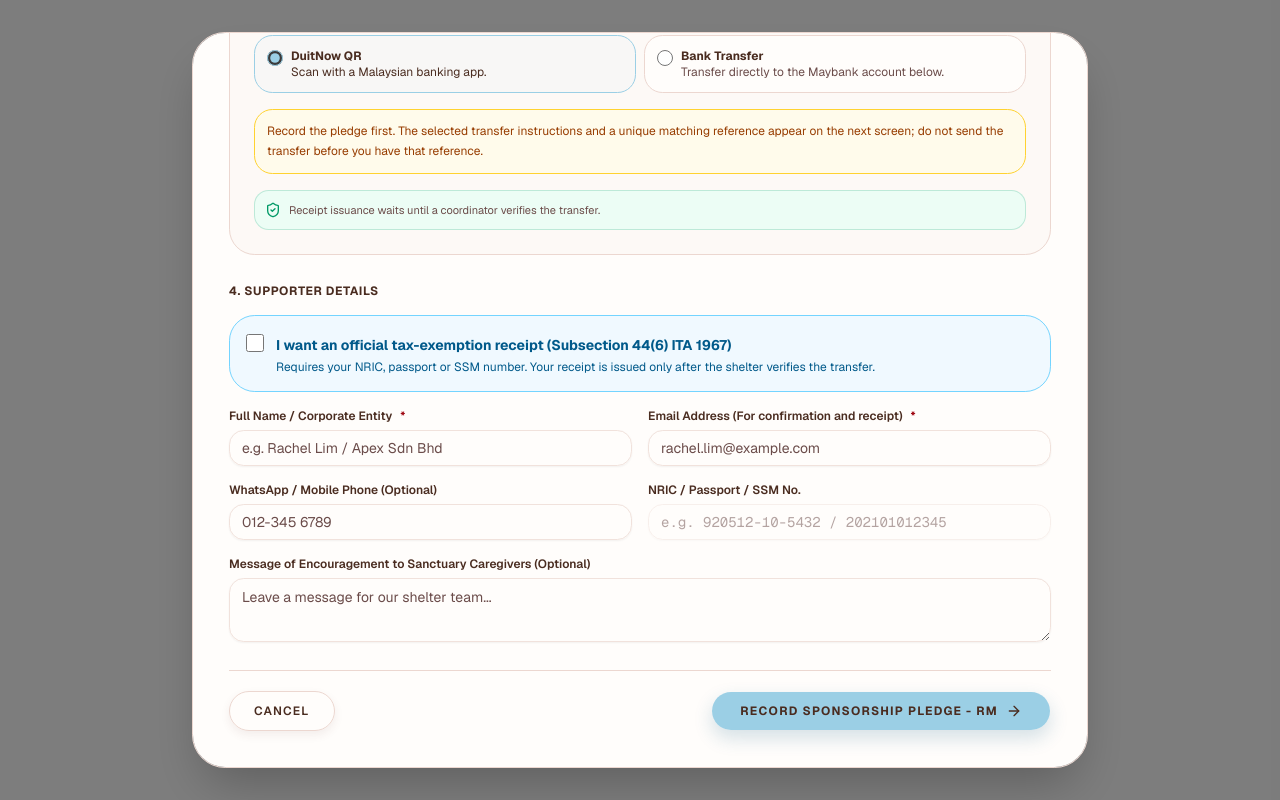
Test: SponsorshipModal checkout contract › does not deny a possible external transfer after a target-pet action result
(page scrolled)
In the field labelled "Full Name / Corporate Entity *": point(430, 448) [229, 430, 632, 466], type "Aisyah Rahman"
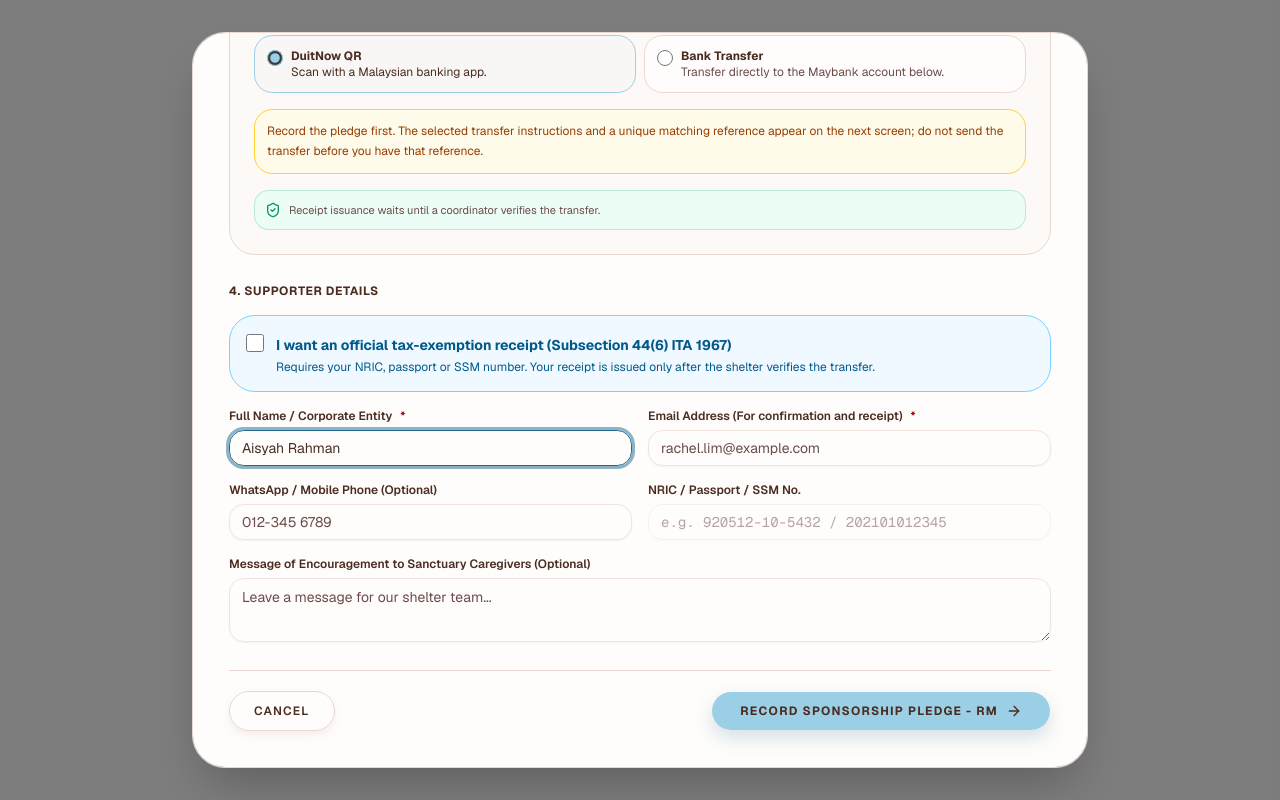
In the field labelled "Email Address (For confirmation and receipt) *": point(850, 448) [648, 430, 1051, 466], type "aisyah@example.com"
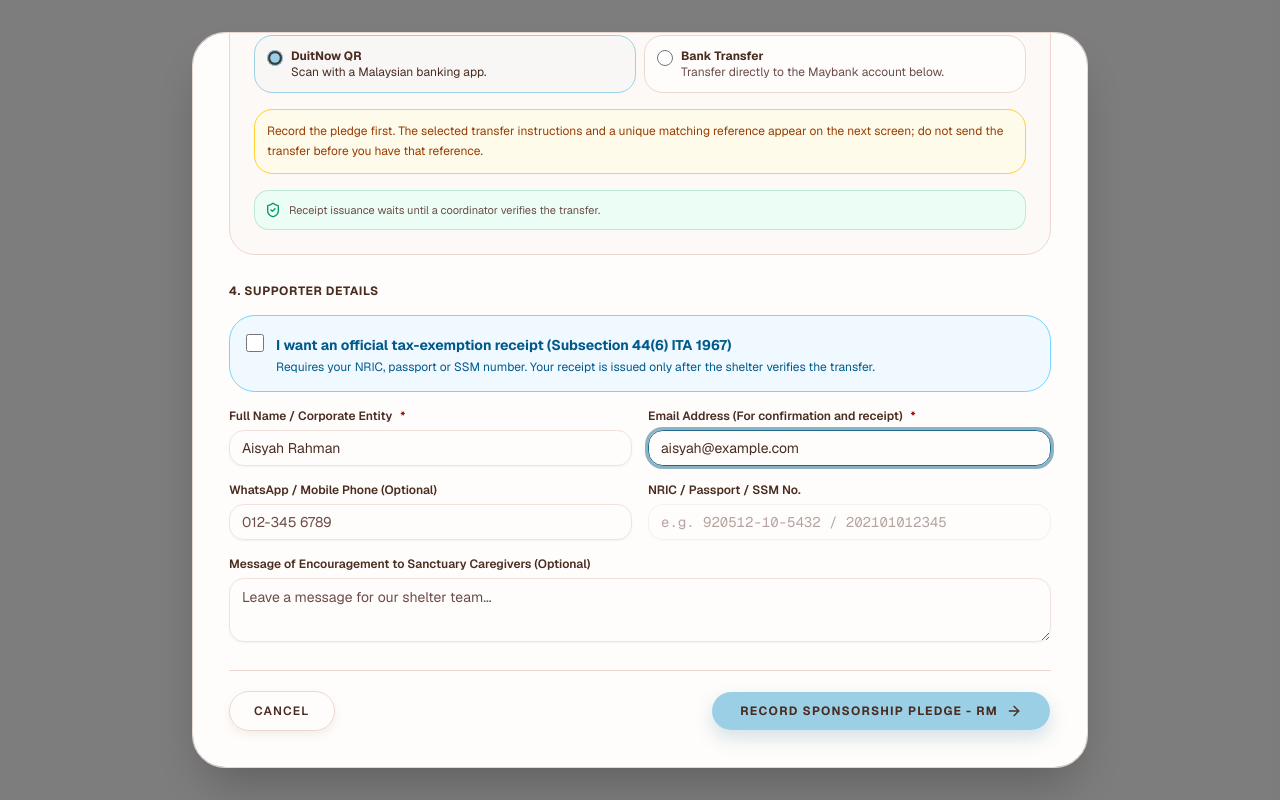
Click the button "Record Sponsorship Pledge - RM": point(881, 711) [711, 691, 1051, 731]
(page scrolled)
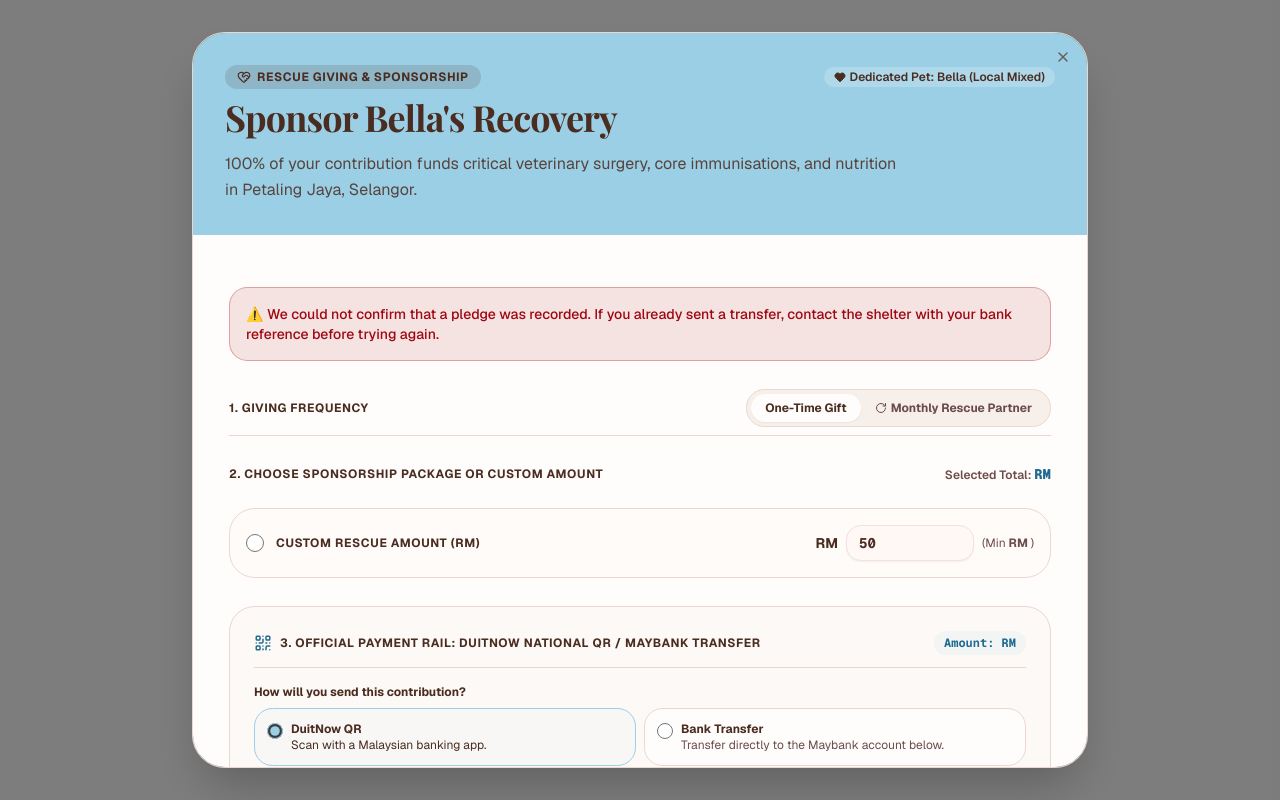
Check: the text "could not confirm that a pledge was recorded" does not show "nothing has been charged", box [246, 304, 1034, 344]
Check: the text "could not confirm that a pledge was recorded" shows "contact the shelter", box [246, 305, 1013, 343]
Check: the text "could not confirm that a pledge was recorded" shows "bank reference", box [246, 305, 1013, 343]
